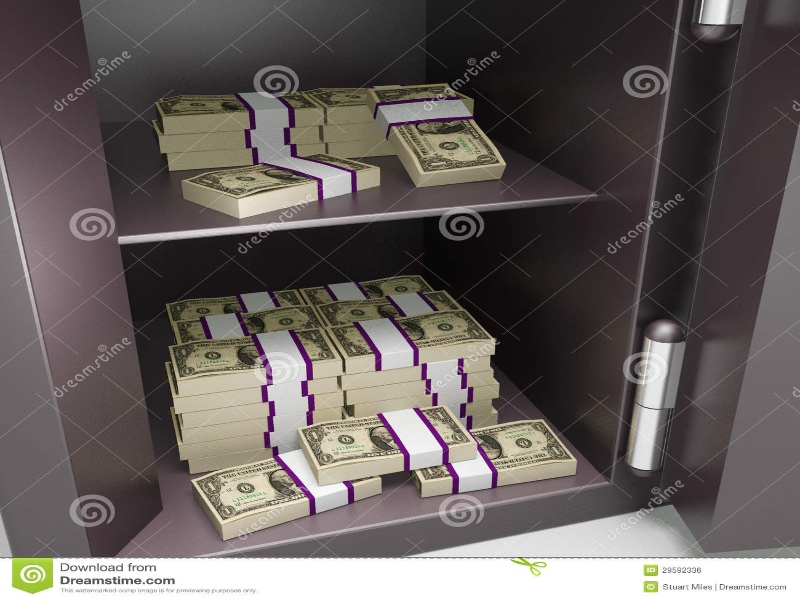cash: (165, 276, 579, 544), (152, 84, 507, 220)
